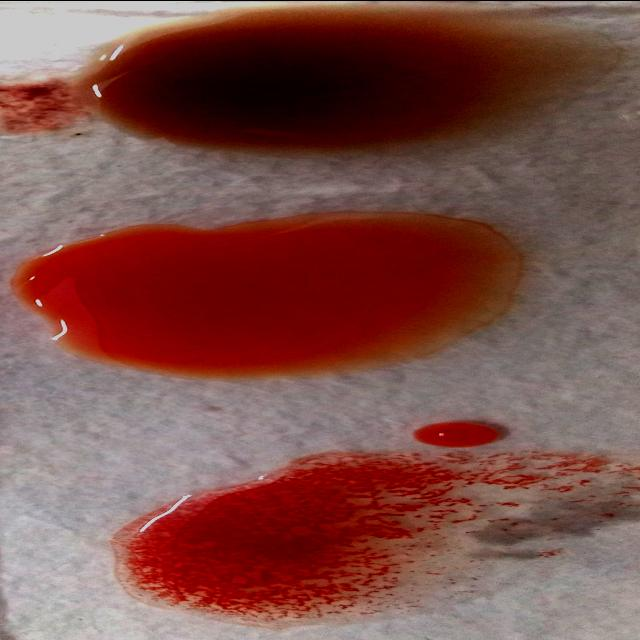D: (121, 454, 617, 612)
